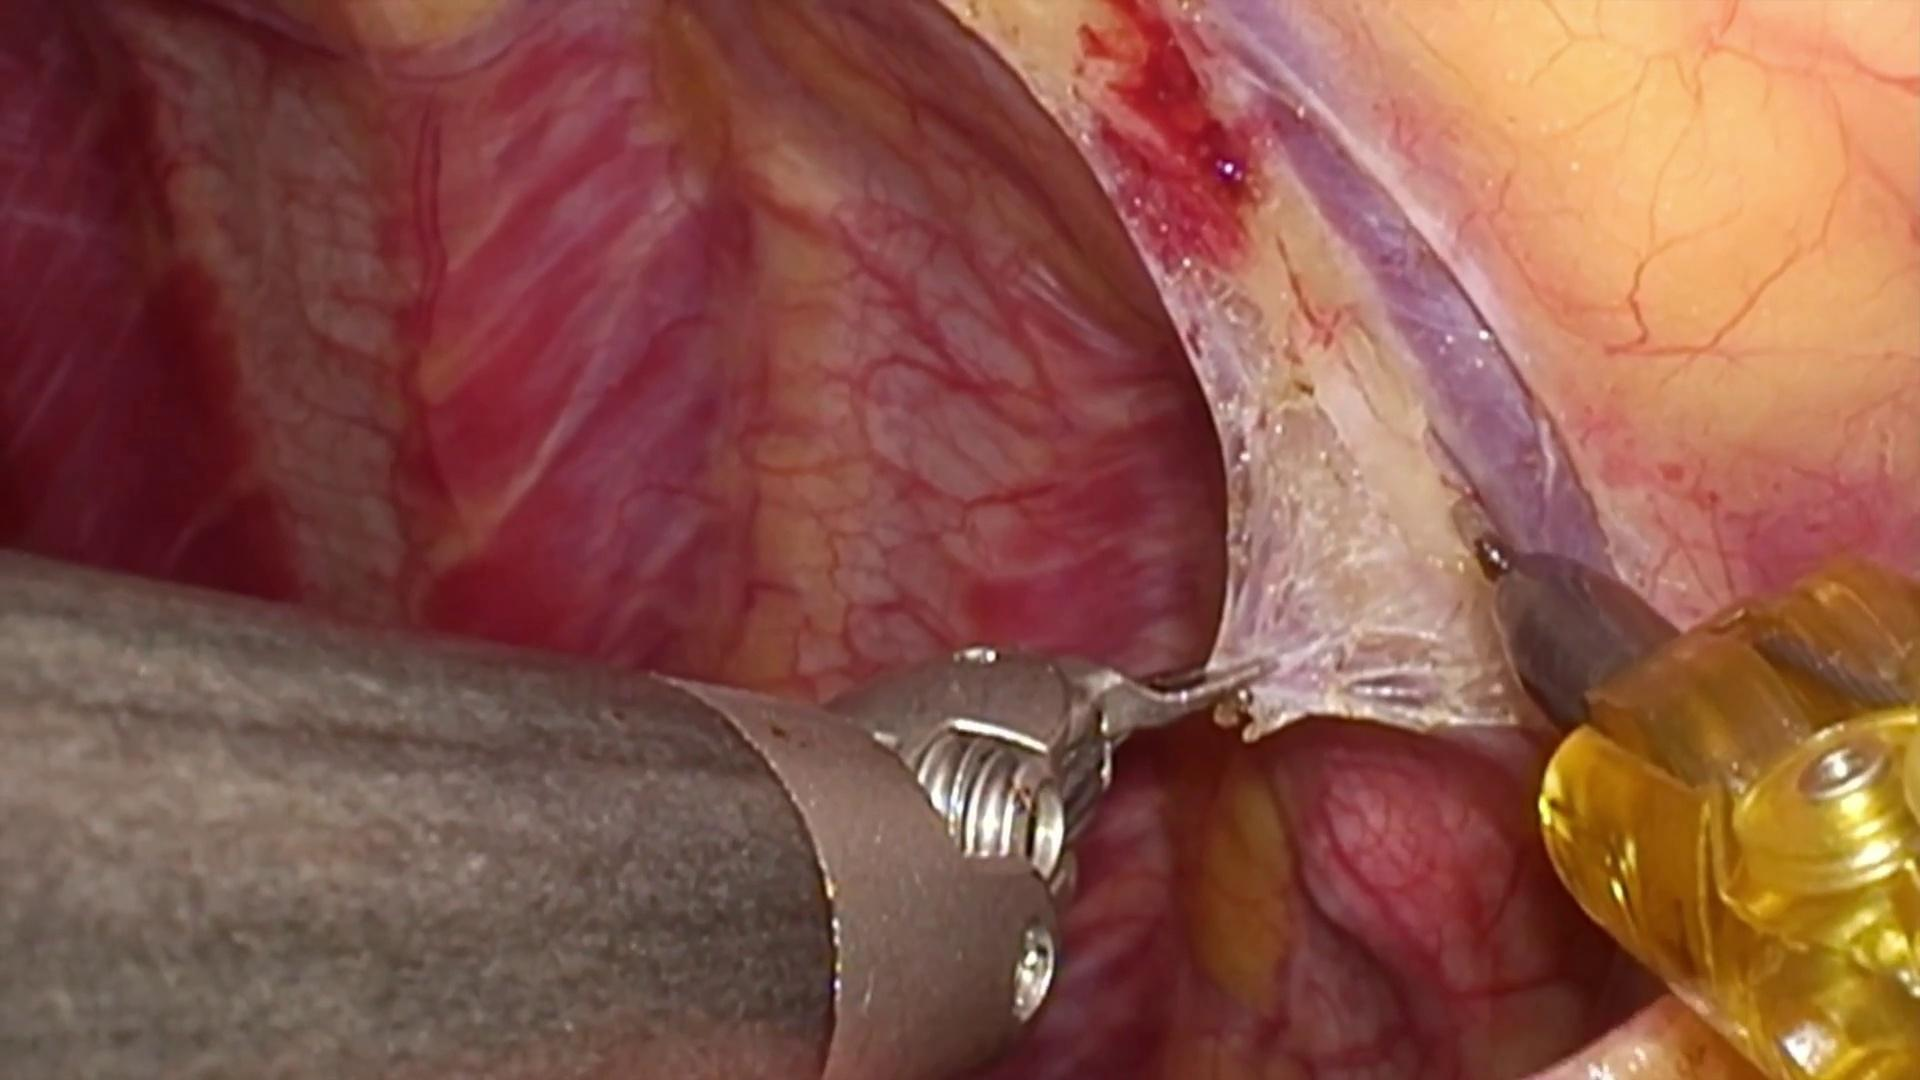Cautery_Spatula: (1455, 496, 1685, 727)
Debakey: (1046, 603, 1283, 782)
